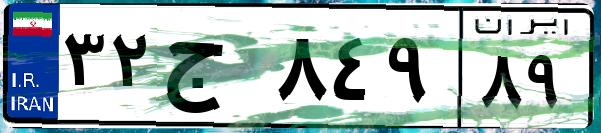2: (110, 28, 158, 98)
3: (57, 26, 110, 100)
4: (330, 28, 385, 110)
8: (270, 28, 330, 110), (475, 38, 525, 113)
9: (385, 28, 445, 110), (525, 38, 570, 115)
ج: (158, 20, 270, 120)
